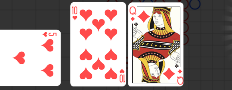10H: (118, 67, 125, 83)
5H: (40, 31, 57, 38)
